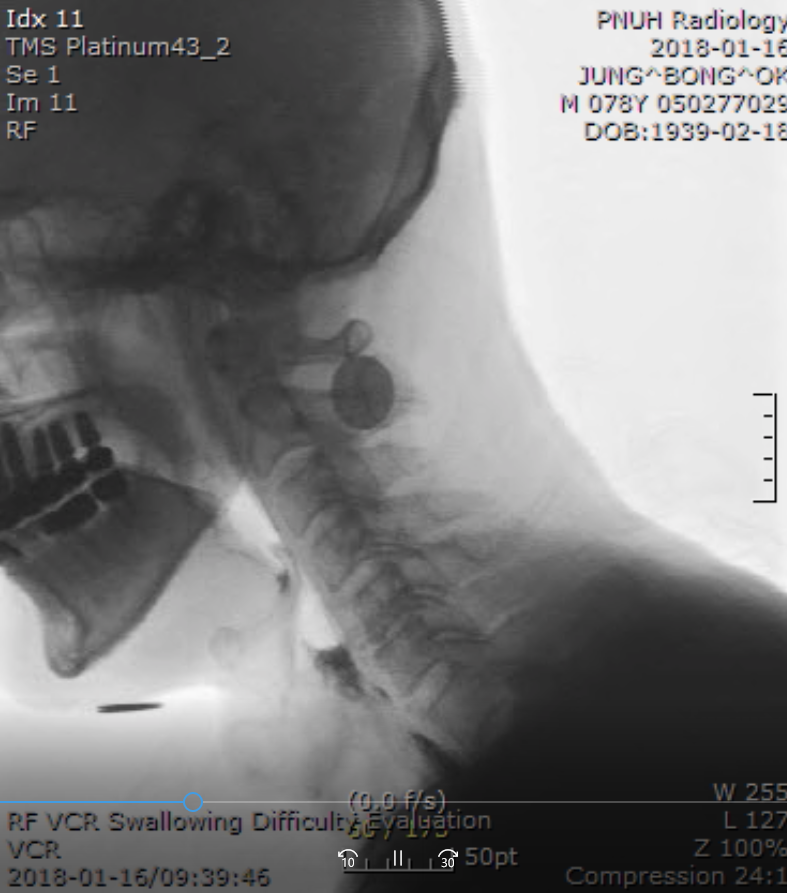dros: (294, 612, 349, 674)
food: (296, 638, 369, 705)
uros: (224, 530, 294, 600)
